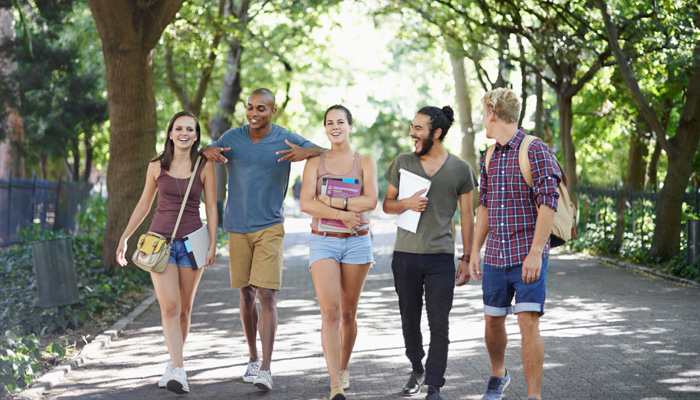Person: (467, 86, 563, 379), (222, 86, 305, 396), (129, 110, 212, 400), (391, 107, 453, 393), (308, 100, 367, 383)
